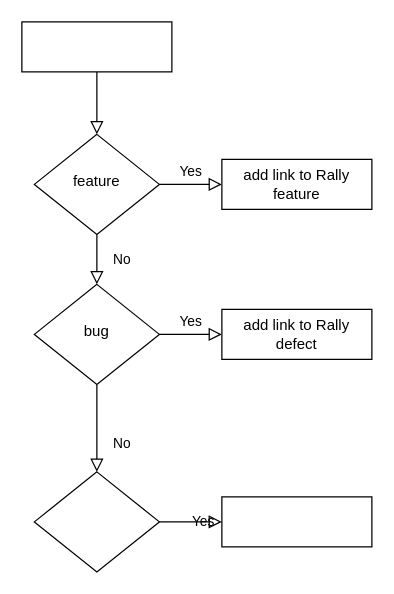
This 394x594 diagram has some shape labels left out. Each missing label, with the box of its shape:
create GitLab Issue: (21, 21, 172, 72)
not feasible: (33, 471, 159, 572)
